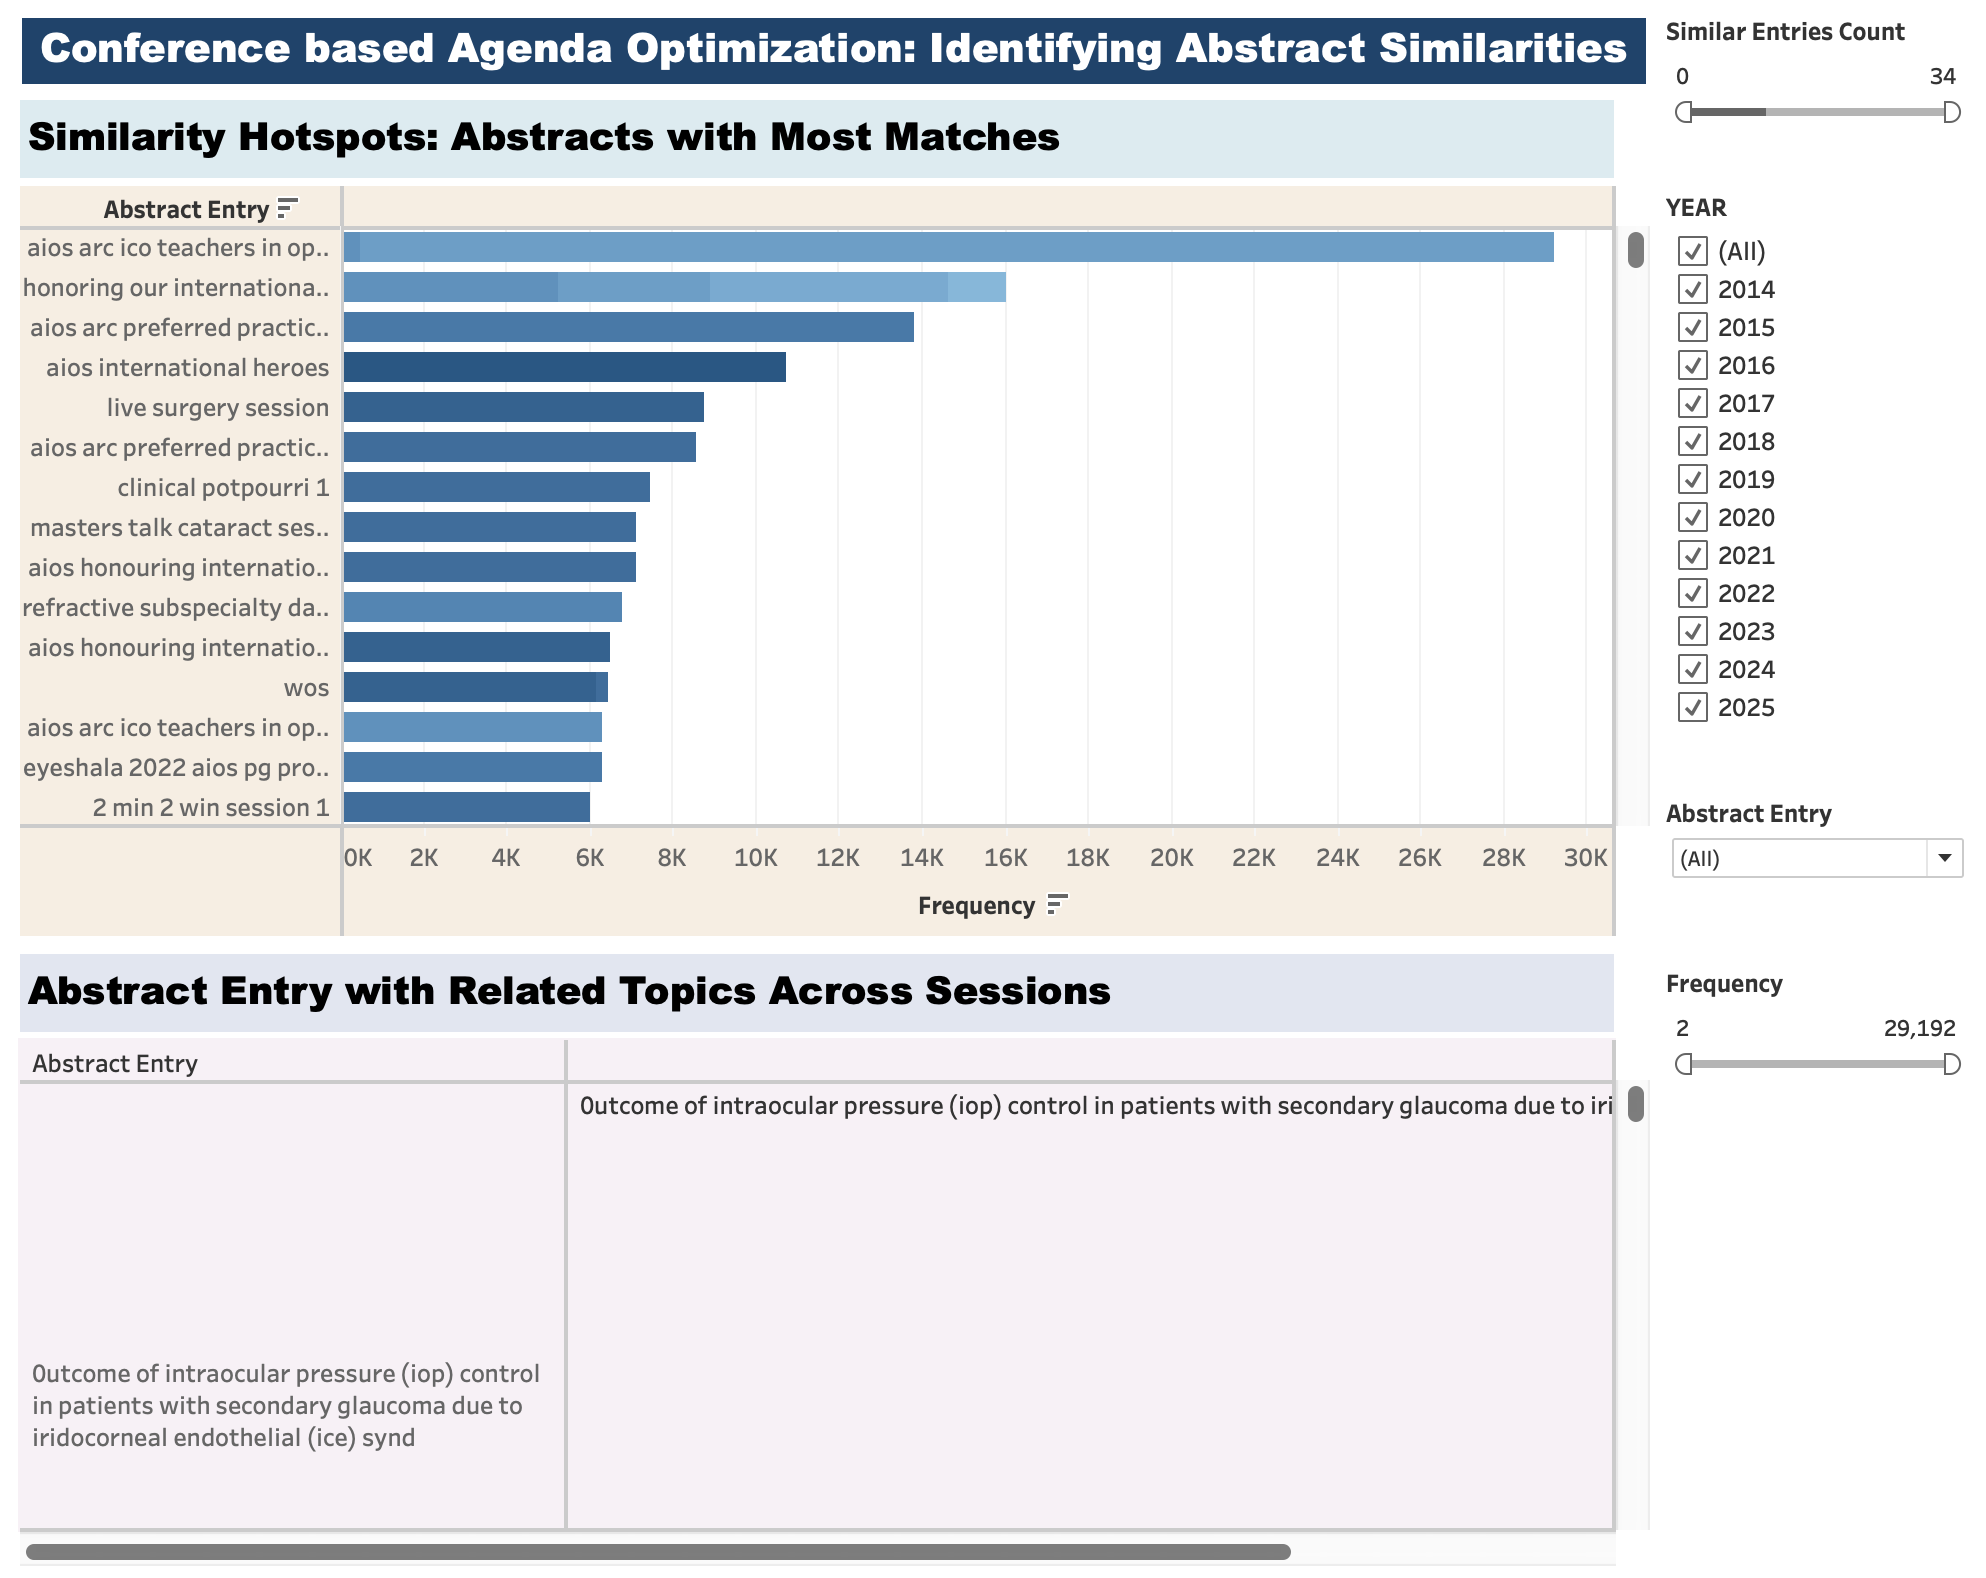

Layout of this report page (visuals, bound fields, positions):
{"tool":"tableau","page":{"name":"Dashboard 2","canvas":[1000,800],"ordinal":1},"visuals":[{"type":"worksheet","title":"Sheet 6","mark":"Automatic","box":[8,8,984,52]},{"type":"worksheet","title":"Sheet 3 (2)","mark":"Automatic","rows":["Count","Count"],"cols":["Talk_Type"],"box":[8,60,205,471.9]},{"type":"worksheet","title":"Sheet 4","mark":"Automatic","rows":["grouped_entry"],"cols":["similar_pair_count (grouped_similar_abstracts_multiline.csv)"],"box":[213,60,619,471.9]},{"type":"filter","title":"Sheet 4","param":"[federated.1vjh9081fhw82n1f5kxp71dn407l].[none:grouped_entry:nk]","box":[832,60,160,53]},{"type":"filter","title":"Sheet 4","param":"[federated.1vjh9081fhw82n1f5kxp71dn407l].[sum:similar_pair_count (grouped_simila","box":[832,113,160,70]},{"type":"legend","title":"Sheet 3 (2)","param":"[federated.1vjh9081fhw82n1f5kxp71dn407l].[sum:Count:qk]","box":[832,183,160,65]},{"type":"worksheet","title":"Sheet 5","mark":"Automatic","rows":["grouped_entry"],"box":[8,531.9,824,260.1]}]}

Visuals, with their boxes in screenshot pixels (x1, y1, x2, y2), scaled from the page's 1000x800 canvas onto the 1986x1578 screenshot:
"Sheet 6" worksheet: [16,16,1970,118]
"Sheet 3 (2)" worksheet: [16,118,423,1049]
"Sheet 4" worksheet: [423,118,1652,1049]
"Sheet 4" filter: [1652,118,1970,223]
"Sheet 4" filter: [1652,223,1970,361]
"Sheet 3 (2)" legend: [1652,361,1970,489]
"Sheet 5" worksheet: [16,1049,1652,1562]
